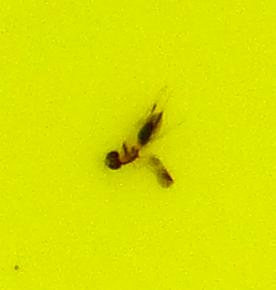Brachycera: (100, 100, 176, 190)
